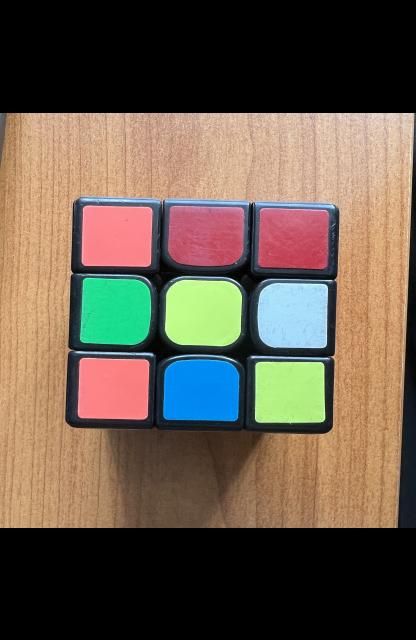Blue: (163, 358, 239, 421)
Green: (80, 277, 152, 344)
Orange: (78, 357, 149, 419), (82, 204, 153, 266)
Red: (168, 205, 244, 266), (258, 207, 329, 269)
White: (257, 282, 328, 347)
Yellow: (166, 279, 242, 346), (254, 361, 326, 422)
